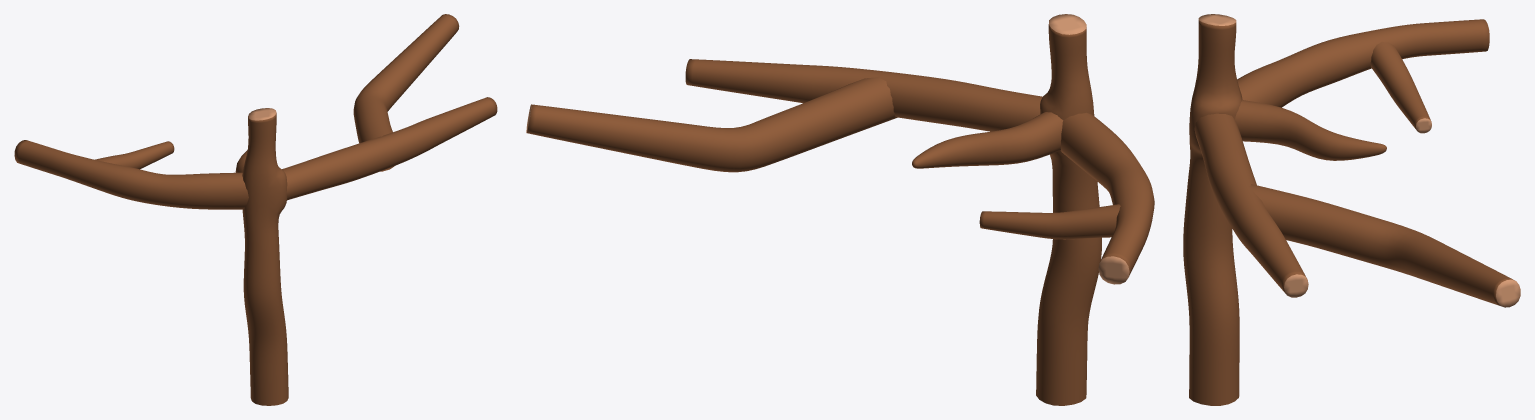
File: der ast.fbx
3 renders of one model, left to right at view 1: azimuth 30°, elevation 25°; view 2: azimuth 150°, elevation 25°; view 3: azimuth 270°, elevation 25°, orthographic. The views are drawn at different scales.
Parts seen in each view (by area): view 1: der ast; view 2: der ast; view 3: der ast.
Boxes of the visible parts, x1=… form: der ast: x1=14, y1=14, x2=497, y2=405; der ast: x1=526, y1=14, x2=1154, y2=405; der ast: x1=1183, y1=14, x2=1520, y2=405.
Bounding box in the file's own units: 150 × 91.22 × 74.43.
